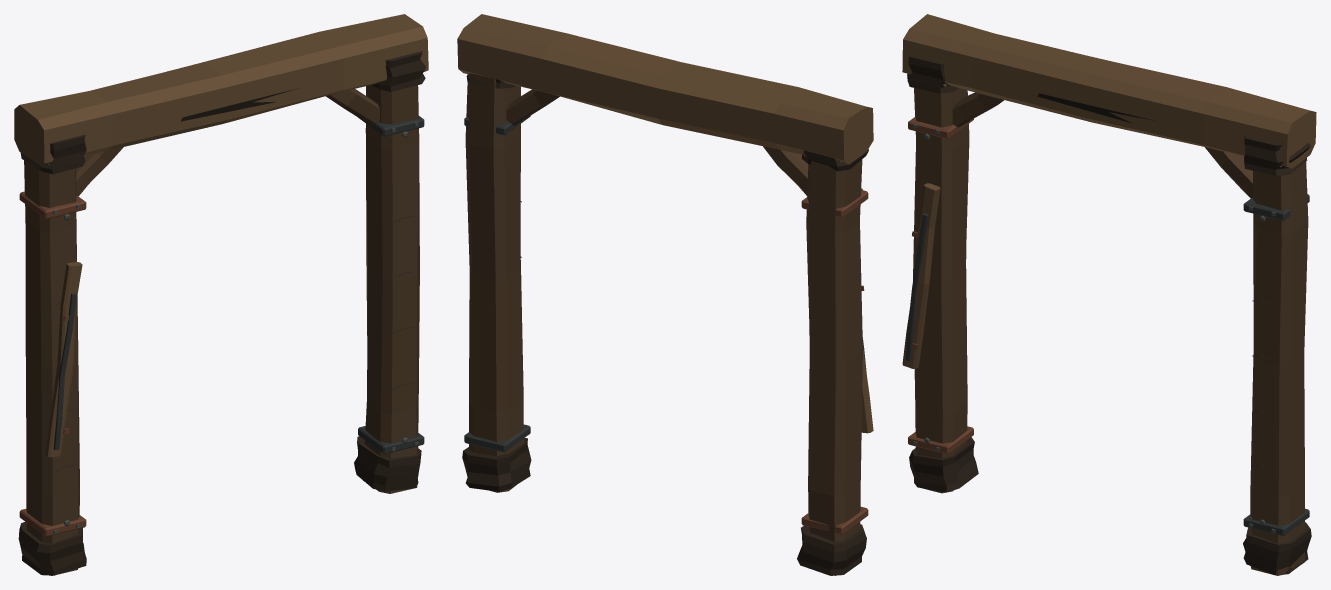
The model's file is support-damaged.glb.
3 renders of one model, left to right at view 1: azimuth 30°, elevation 25°; view 2: azimuth 150°, elevation 25°; view 3: azimuth 330°, elevation 25°, orthographic.
Visible parts, largest first — view 1: Wood, Iron; view 2: Wood, Iron; view 3: Wood, Iron.
Boxes of the visible parts, x1,y1,x2,y2 form: Wood: (14, 14, 428, 575); Iron: (19, 116, 424, 536); Wood: (457, 14, 873, 575); Iron: (464, 116, 868, 534); Wood: (902, 14, 1316, 575); Iron: (905, 117, 1309, 535).
Size of the model in its own units: 2.12 by 2.4 by 0.3609.
